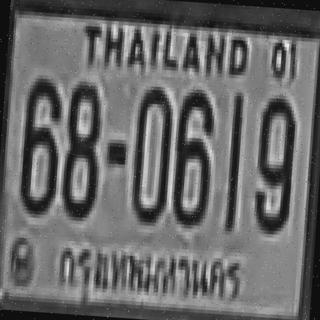N00: (128, 81, 172, 223)
N01: (223, 90, 244, 230), (224, 90, 242, 226)
N06: (17, 74, 64, 212), (170, 84, 214, 226)
N08: (60, 77, 104, 218)
N09: (251, 92, 295, 230)
P04: (53, 236, 247, 314)
